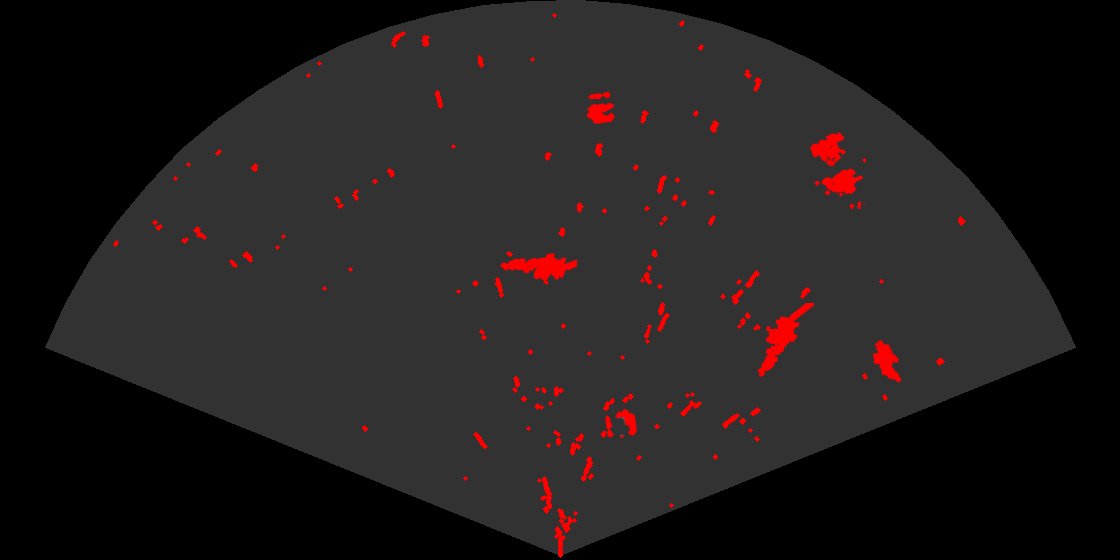AUV: (871, 339, 903, 384)
ball: (585, 90, 617, 126), (604, 407, 638, 440)
cage: (808, 130, 866, 209)
frogman: (756, 303, 814, 378), (499, 251, 577, 286)
